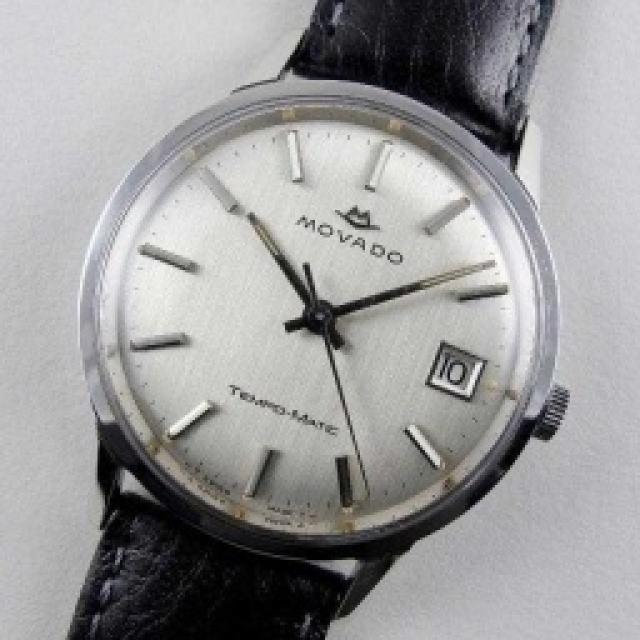saat: (63, 0, 574, 640)
